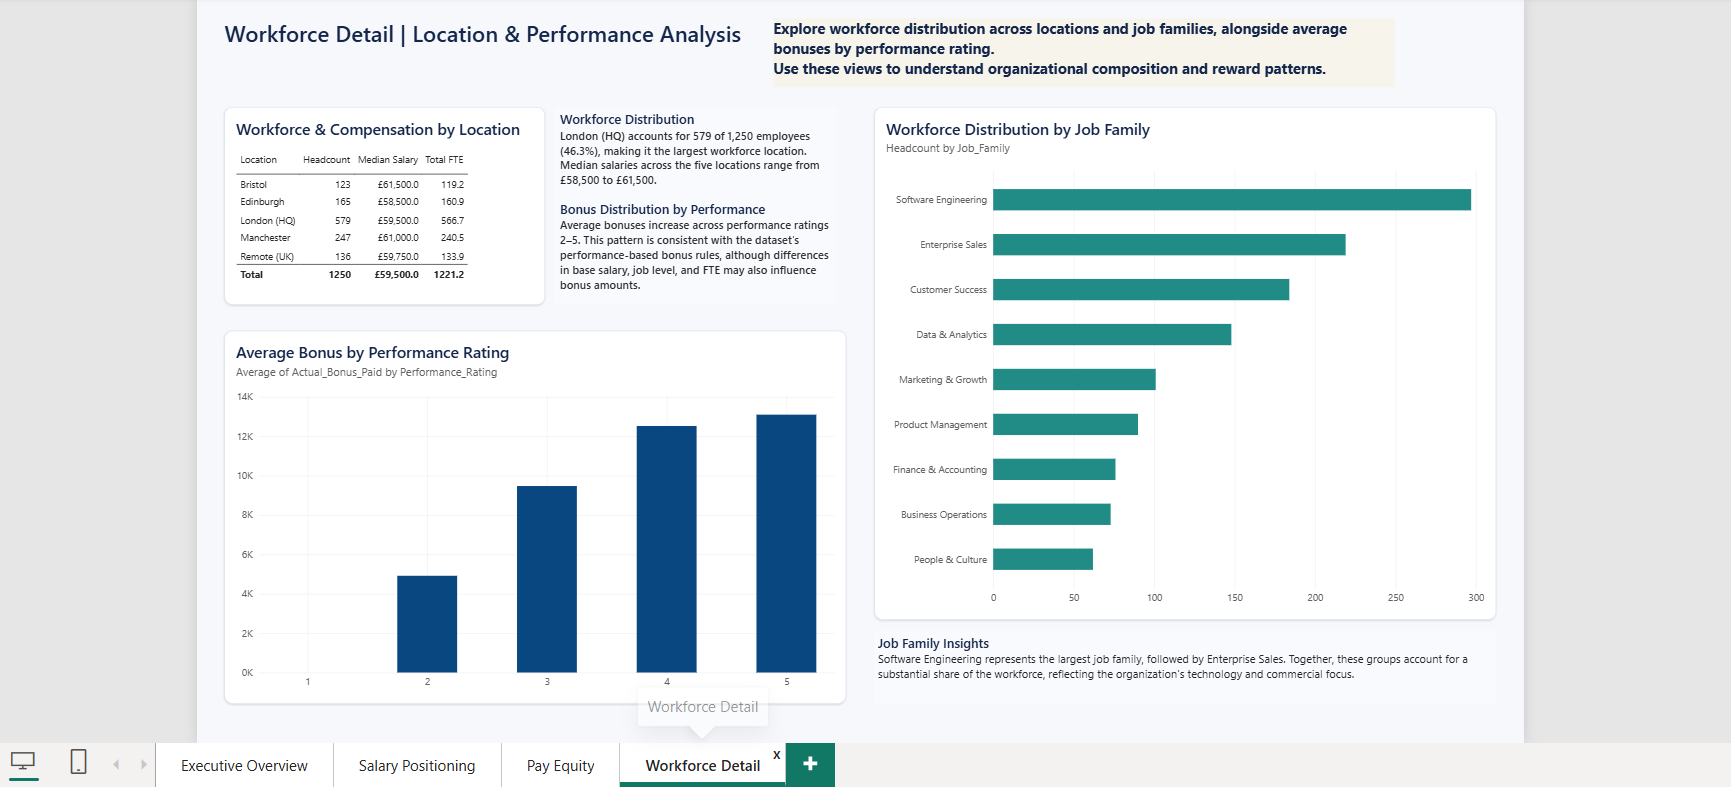

What the dashboard file says about the page in this screenshot:
{"tool":"powerbi","page":{"name":"Workforce Detail","canvas":[1920,1080],"ordinal":3},"visuals":[{"type":"tableEx","title":"Workforce & Compensation by Location","fields":{"Values":["Dim_Location.Location","_Measures.Headcount","_Measures.Median Salary","_Measures.Total FTE"]},"box":[40,160,464,286],"z":0},{"type":"clusteredColumnChart","title":"Average Bonus by Performance Rating","fields":{"Category":["Fact_Compensation.Performance_Rating"],"Y":["Avg(Fact_Compensation.Actual_Bonus_Paid)"]},"box":[40,484,900,540],"z":1000},{"type":"textbox","box":[40,30,886,100],"z":1001},{"type":"textbox","box":[518,160,408,286],"z":1002},{"type":"clusteredBarChart","title":"Workforce Distribution by Job Family","fields":{"Category":["Fact_Compensation.Job_Family"],"Y":["_Measures.Headcount"]},"box":[980,160,900,742],"z":1003},{"type":"textbox","box":[980,918,900,106],"z":1004},{"type":"textbox","box":[834,30,900,100],"z":1005}]}

Visuals, with their boxes on the page's 1920x1080 design canvas (x1, y1, x2, y2). These are canvas units, not pixel positions in the 1731x787 screenshot, which may show the page scaled, cropped or inside an application window:
"Workforce & Compensation by Location" tableEx: 40,160,504,446
"Average Bonus by Performance Rating" clusteredColumnChart: 40,484,940,1024
textbox: 40,30,926,130
textbox: 518,160,926,446
"Workforce Distribution by Job Family" clusteredBarChart: 980,160,1880,902
textbox: 980,918,1880,1024
textbox: 834,30,1734,130
